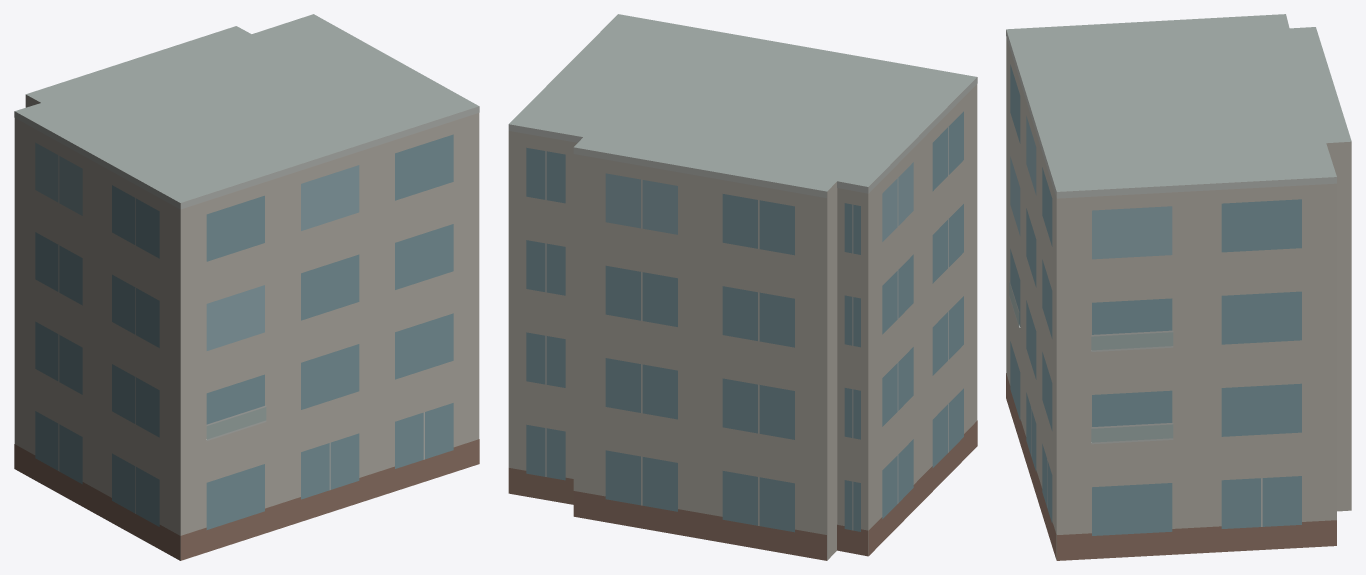
Rendered from survey-upis-32741400.glb.
The picture shows the model from 3 angles, left to right: view 1: azimuth 30°, elevation 25°; view 2: azimuth 150°, elevation 25°; view 3: azimuth 270°, elevation 25°; orthographic projection. The views are drawn at different scales.
Visible parts, largest first — view 1: survey-upis-32741400.tmp; view 2: survey-upis-32741400.tmp; view 3: survey-upis-32741400.tmp.
Boxes of the visible parts, x1,y1,x2,y2 form: survey-upis-32741400.tmp: (14,14,479,560); survey-upis-32741400.tmp: (508,14,977,560); survey-upis-32741400.tmp: (1006,14,1351,560).
Bounding box in the file's own units: 13.98 × 13.5 × 11.47.
